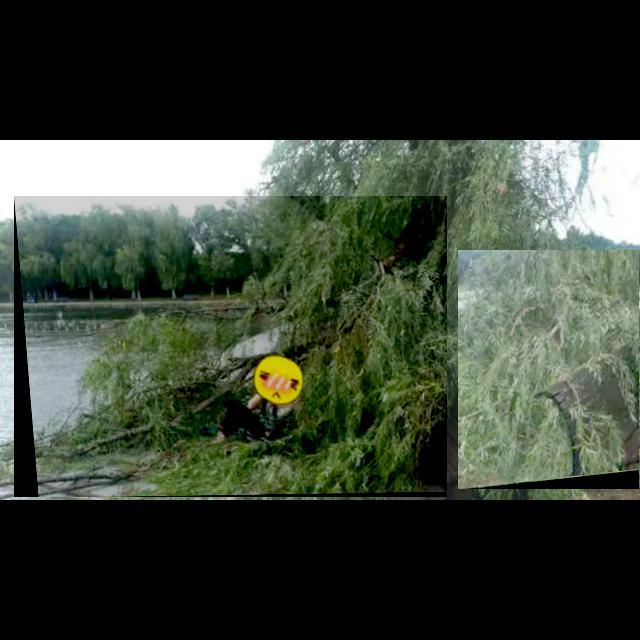fallen_tree: (14, 196, 448, 498), (458, 250, 640, 490)
